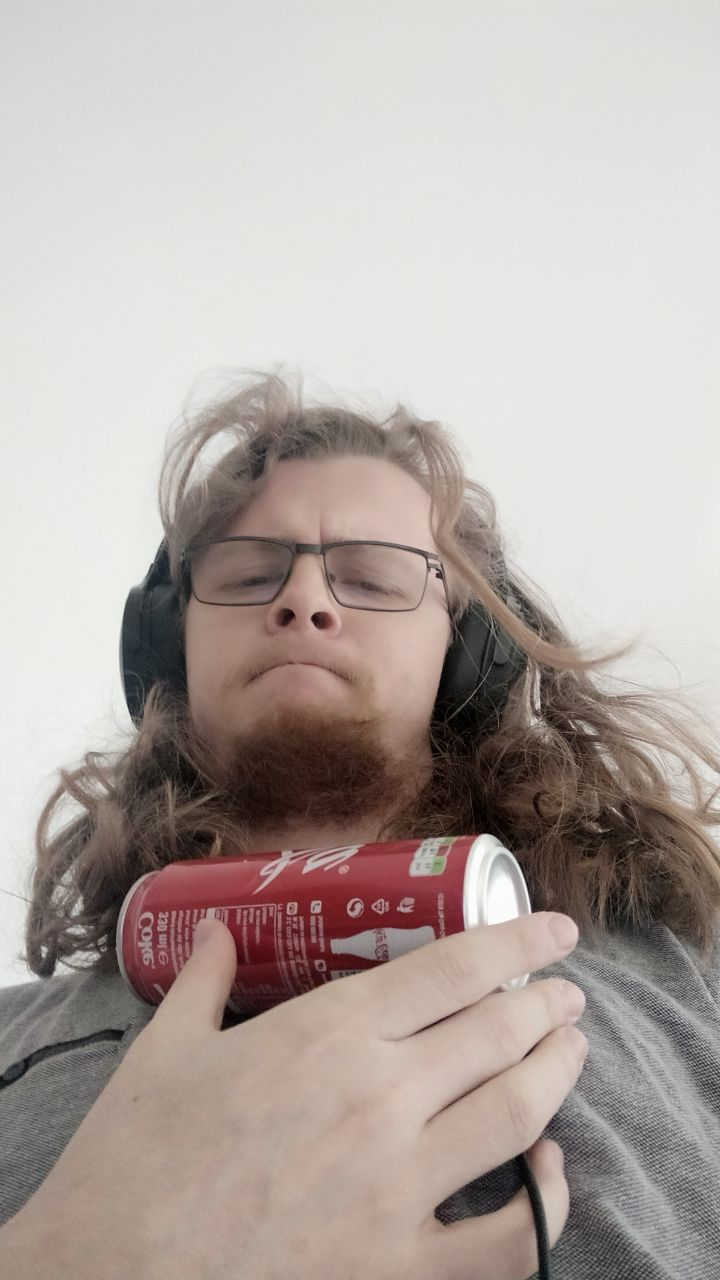Can: (115, 829, 545, 1009)
